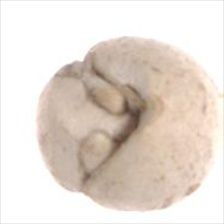L3: (75, 79, 154, 179)
L4: (35, 35, 219, 212)
